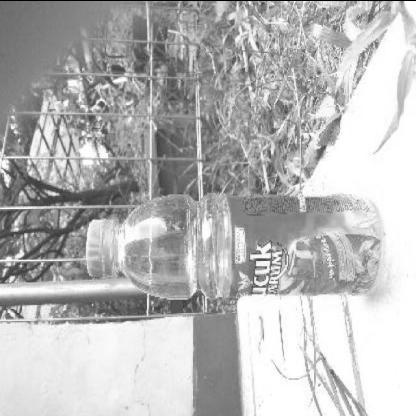plastic_bottles: (84, 186, 389, 302)
